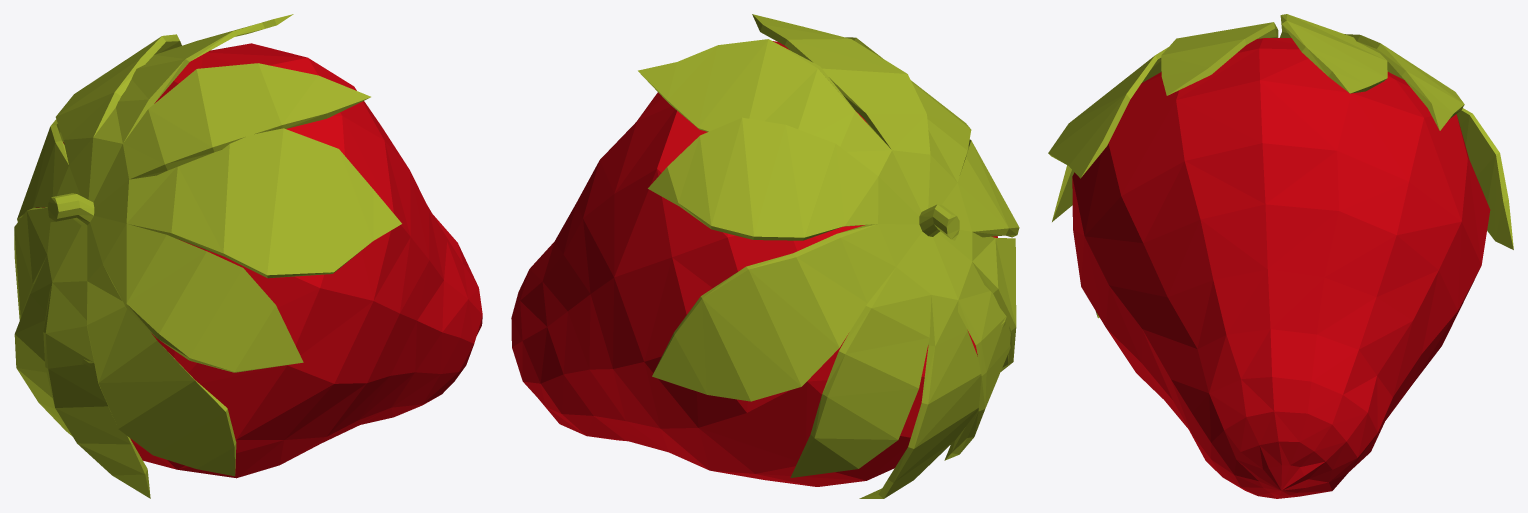
File: Strawberry.fbx
3 renders of one model, left to right at view 1: azimuth 30°, elevation 25°; view 2: azimuth 150°, elevation 25°; view 3: azimuth 270°, elevation 25°, orthographic. The views are drawn at different scales.
Parts seen in each view (by area): view 1: Strawberry Leafes; view 2: Strawberry Leafes; view 3: Strawberry Leafes.
Part boxes in pixels (x1,y1,x2,y2): Strawberry Leafes: (14, 14, 482, 498); Strawberry Leafes: (511, 14, 1019, 498); Strawberry Leafes: (1048, 14, 1513, 498).
Size of the model in its own units: 244 by 221 by 233.
